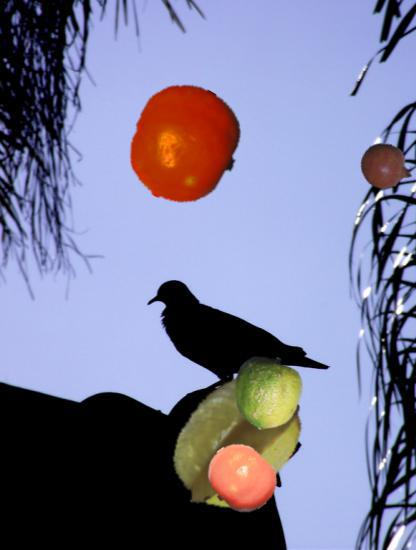Carambula: (162, 370, 308, 516)
Clementine: (125, 85, 245, 205), (206, 442, 278, 514)
Limes: (230, 356, 304, 430)
Pomegranate: (360, 140, 414, 194)
